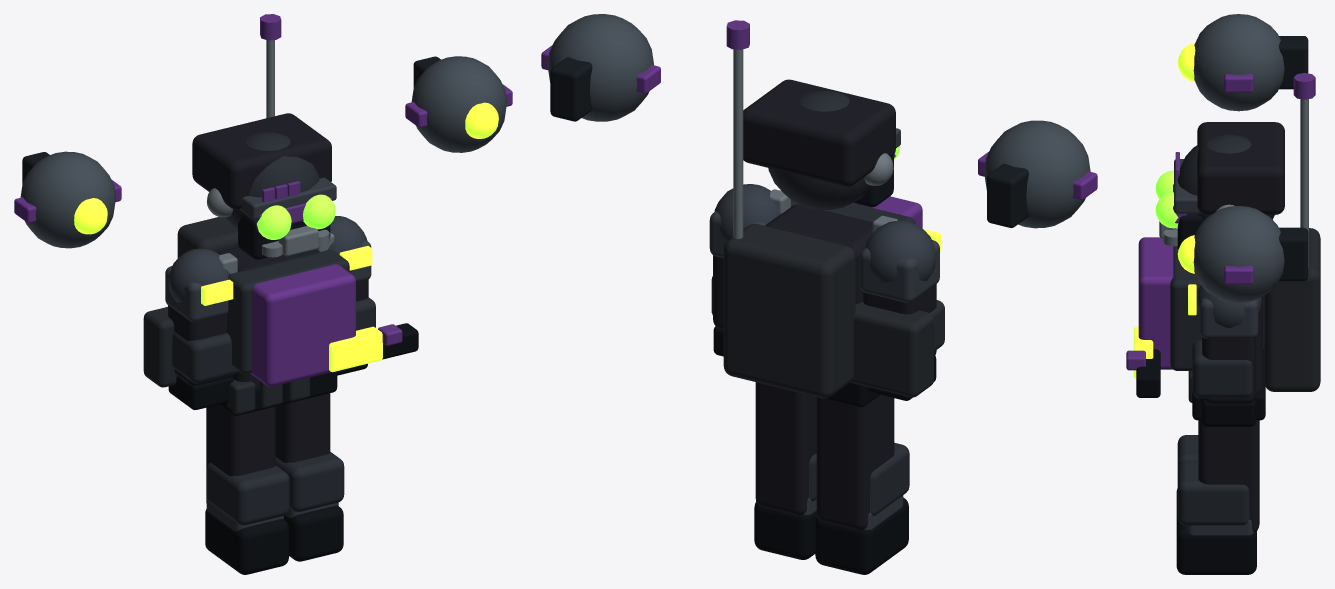
Rendered from aegis_l03.glb.
3 views of the same model, side by side, from view 1: azimuth 30°, elevation 25°; view 2: azimuth 150°, elevation 25°; view 3: azimuth 270°, elevation 25° (orthographic). The views are drawn at different scales.
Visible parts, largest first — view 1: interceptor_core (×2), control_vest, trouser (×2), hood, shaped_knee_guard (×2), boot (×2), segmented_vest, shoulder_joint (×2), rounded_helmet, forearm_plate, map_satchel, interceptor_eye (×2) (+16 smaller); view 2: field_pack, trouser (×2), interceptor_core (×2), hood, boot (×2), map_satchel, shoulder_joint (×2), interceptor_tail (×2), rounded_helmet, body, shoulder_plate, signal_mast (+5 smaller); view 3: interceptor_core (×2), hood, field_pack, trouser, shaped_knee_guard (×2), control_vest, boot, interceptor_tail (×2), segmented_vest, forearm_plate, sleeve, shoulder_plate (+18 smaller).
Boxes of the visible parts, x1,y1,x2,y2 form: interceptor_core (×2): [20, 56, 506, 248]; control_vest: [250, 264, 355, 386]; trouser (×2): [206, 393, 330, 502]; hood: [192, 113, 331, 209]; shaped_knee_guard (×2): [207, 452, 344, 525]; boot (×2): [205, 505, 343, 574]; segmented_vest: [227, 250, 349, 373]; shoulder_joint (×2): [168, 216, 367, 304]; rounded_helmet: [226, 132, 319, 229]; forearm_plate: [172, 331, 239, 383]; map_satchel: [143, 307, 176, 387]; interceptor_eye (×2): [74, 102, 498, 234]; field_pack: [723, 223, 855, 398]; trouser (×2): [755, 382, 894, 530]; interceptor_core (×2): [547, 14, 1090, 228]; hood: [743, 79, 895, 186]; boot (×2): [754, 497, 908, 574]; map_satchel: [850, 302, 933, 397]; shoulder_joint (×2): [714, 184, 936, 283]; interceptor_tail (×2): [550, 57, 1028, 227]; rounded_helmet: [768, 90, 871, 209]; body: [765, 204, 872, 303]; shoulder_plate: [860, 240, 939, 302]; signal_mast: [733, 49, 743, 238]; interceptor_core (×2): [1193, 14, 1284, 302]; hood: [1197, 122, 1284, 214]; field_pack: [1264, 228, 1320, 391]; trouser: [1198, 420, 1259, 532]; shaped_knee_guard (×2): [1177, 435, 1249, 525]; control_vest: [1138, 237, 1173, 369]; boot: [1176, 515, 1256, 574]; interceptor_tail (×2): [1279, 36, 1308, 281]; segmented_vest: [1170, 246, 1201, 370]; forearm_plate: [1192, 340, 1252, 397]; sleeve: [1202, 337, 1255, 403]; shoulder_plate: [1199, 298, 1258, 338].
Size of the model in its own units: 2.31 by 2.23 by 0.795.
